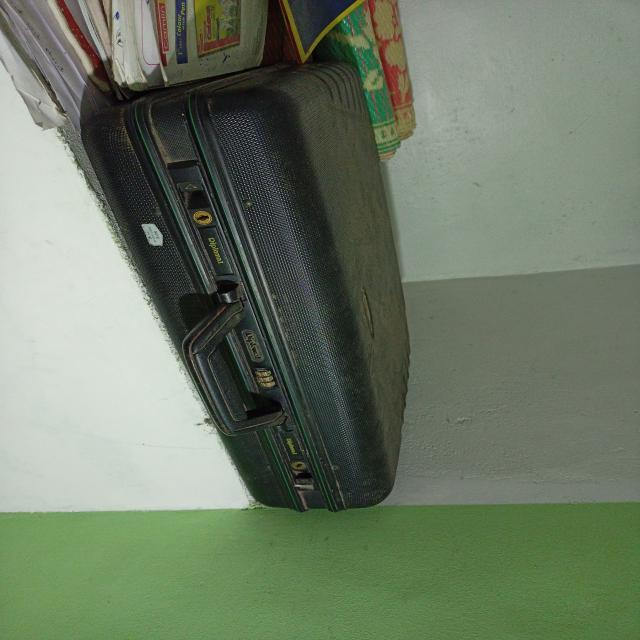suitcaserotation: (72, 22, 416, 515)
